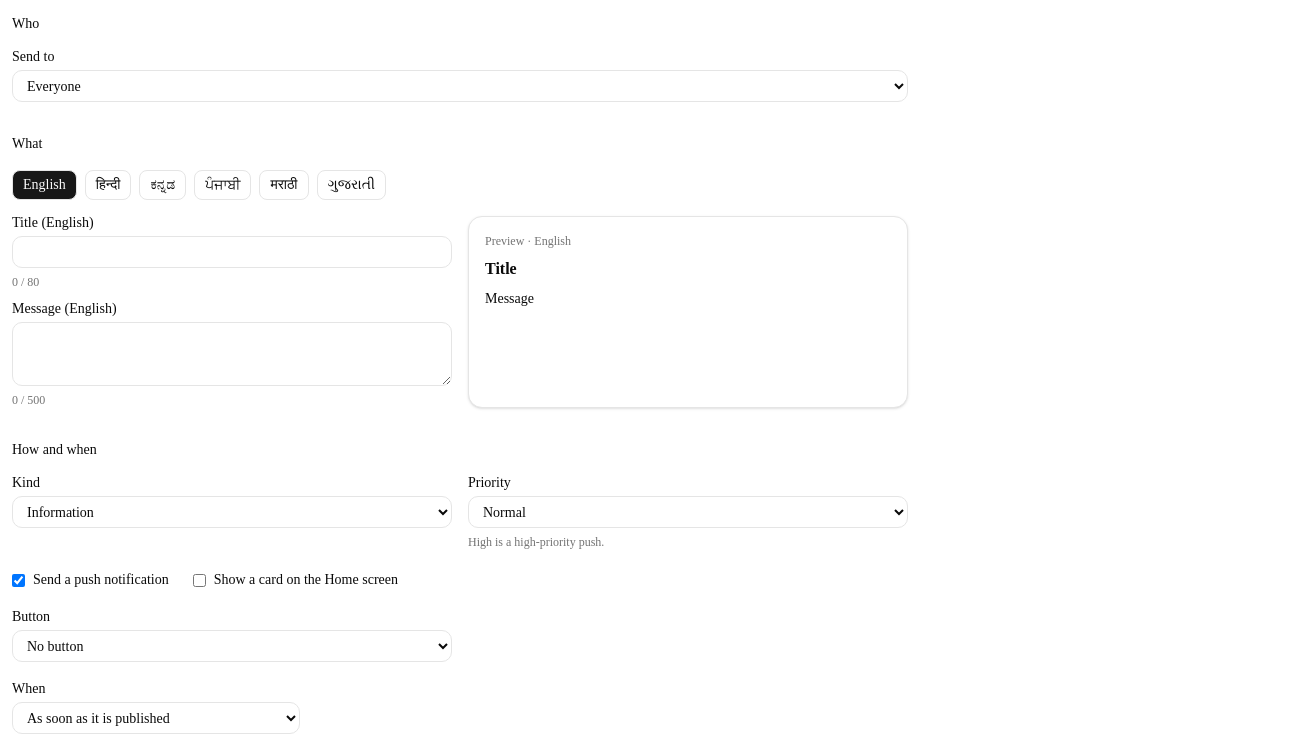
Test case: a new announcement › shows the server message when saving is refused
The width and height of the screenshot is (1292, 754).
In the field labelled "Title (English)": (232, 252) [12, 236, 452, 268], type "x"
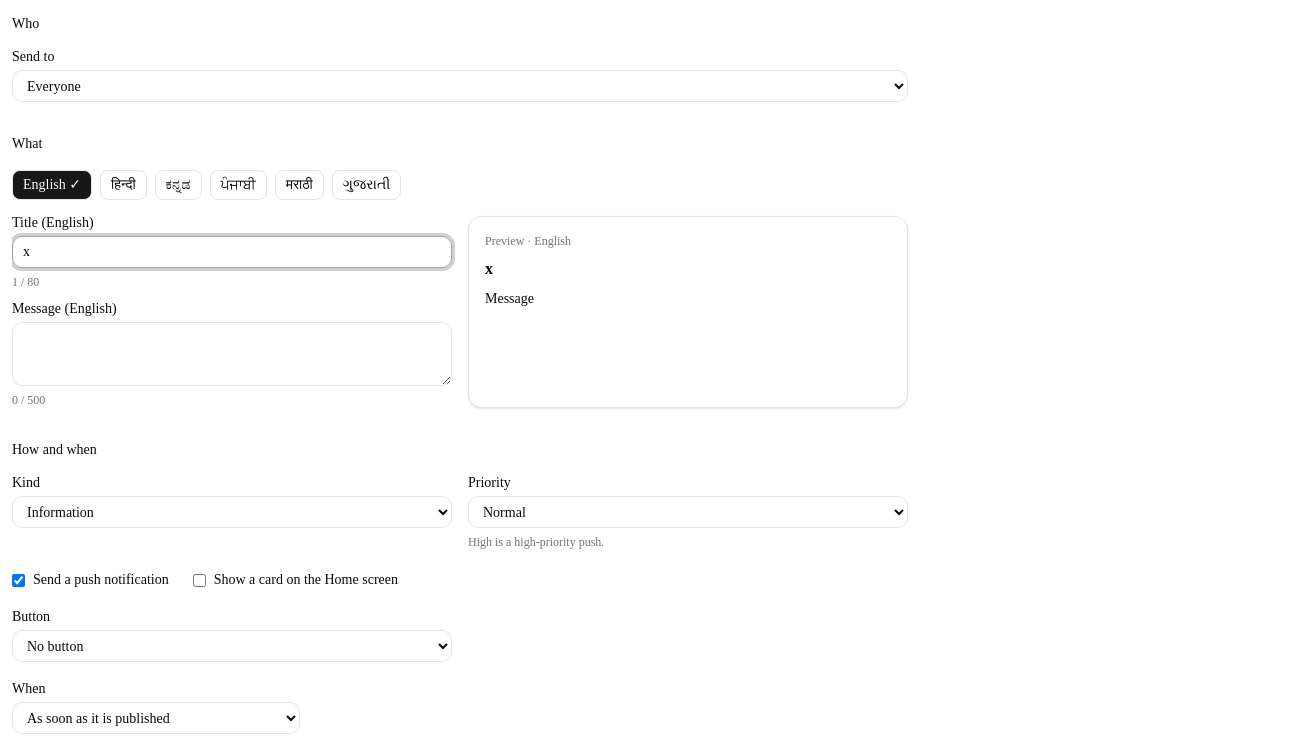
In the text box labelled "Message (English)": (232, 354) [12, 322, 452, 386], type "y"
(page scrolled)
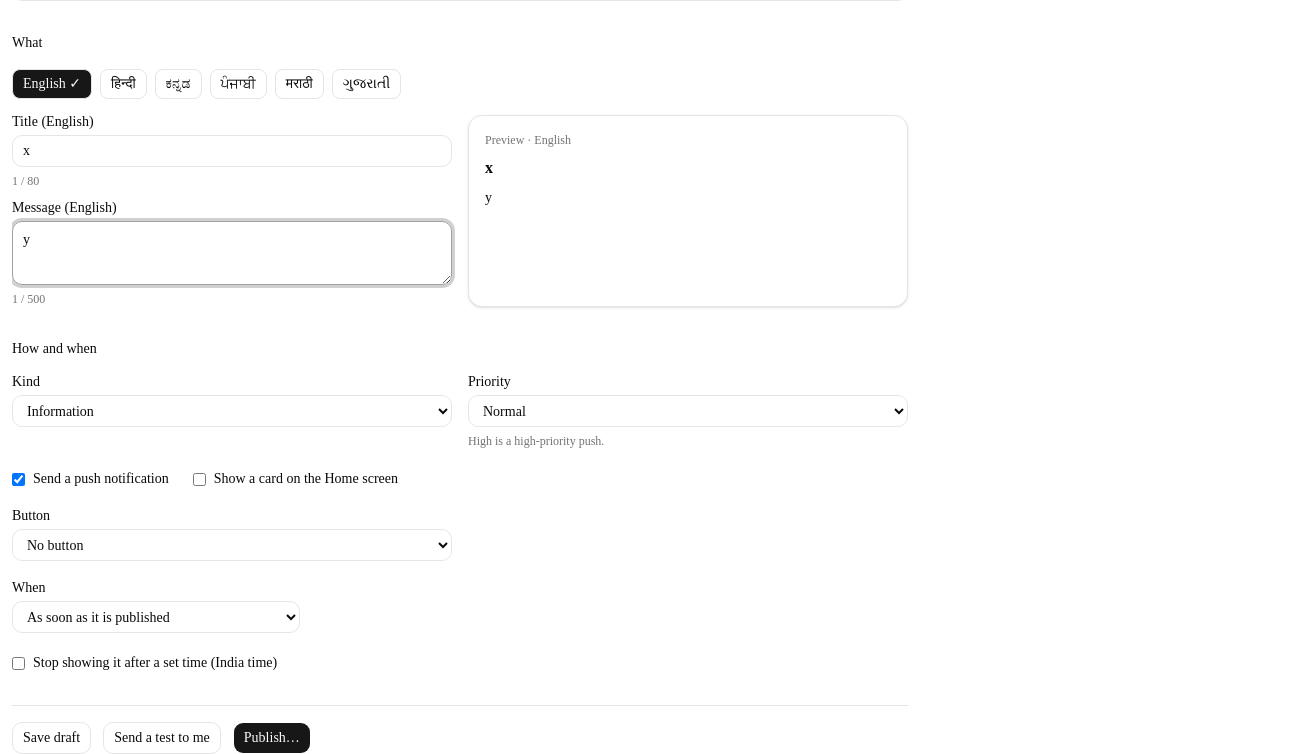
Click the button "Save draft": (52, 738) [12, 722, 91, 753]
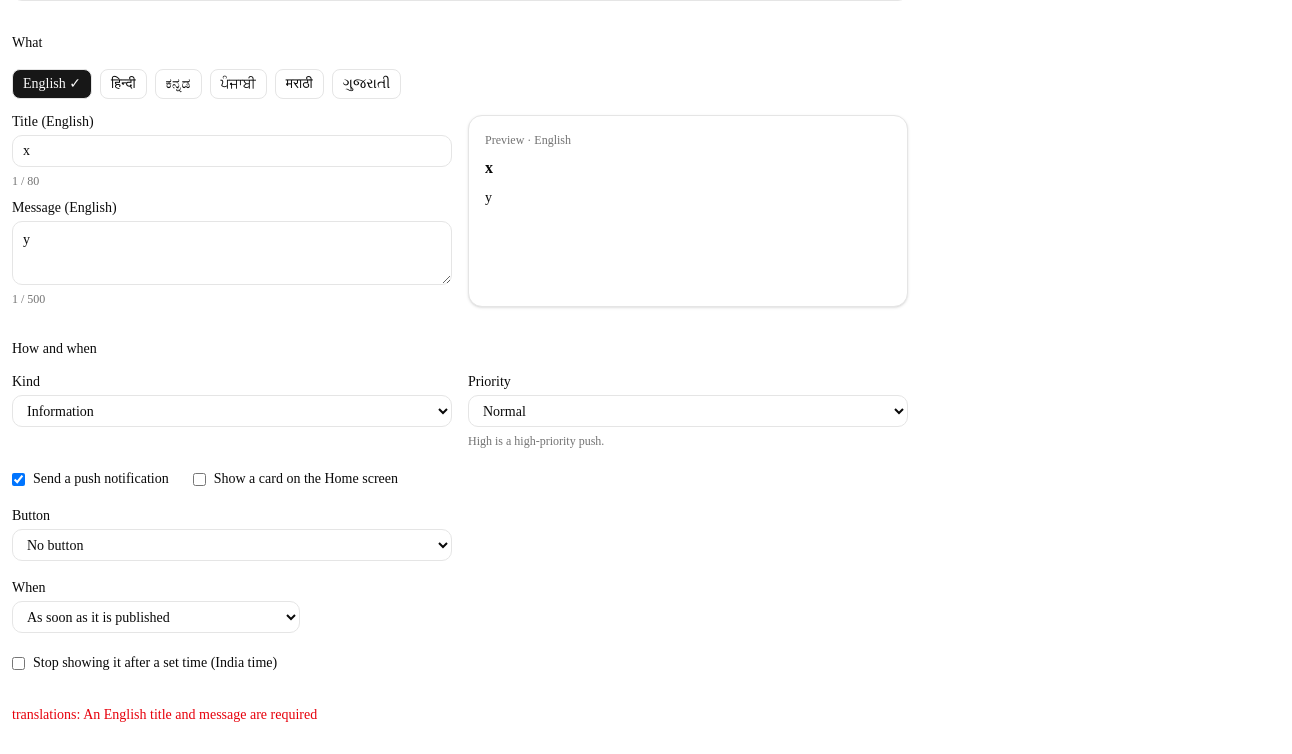
Check: the text "translations: An English title and message are required" is shown, box [12, 707, 317, 722]
